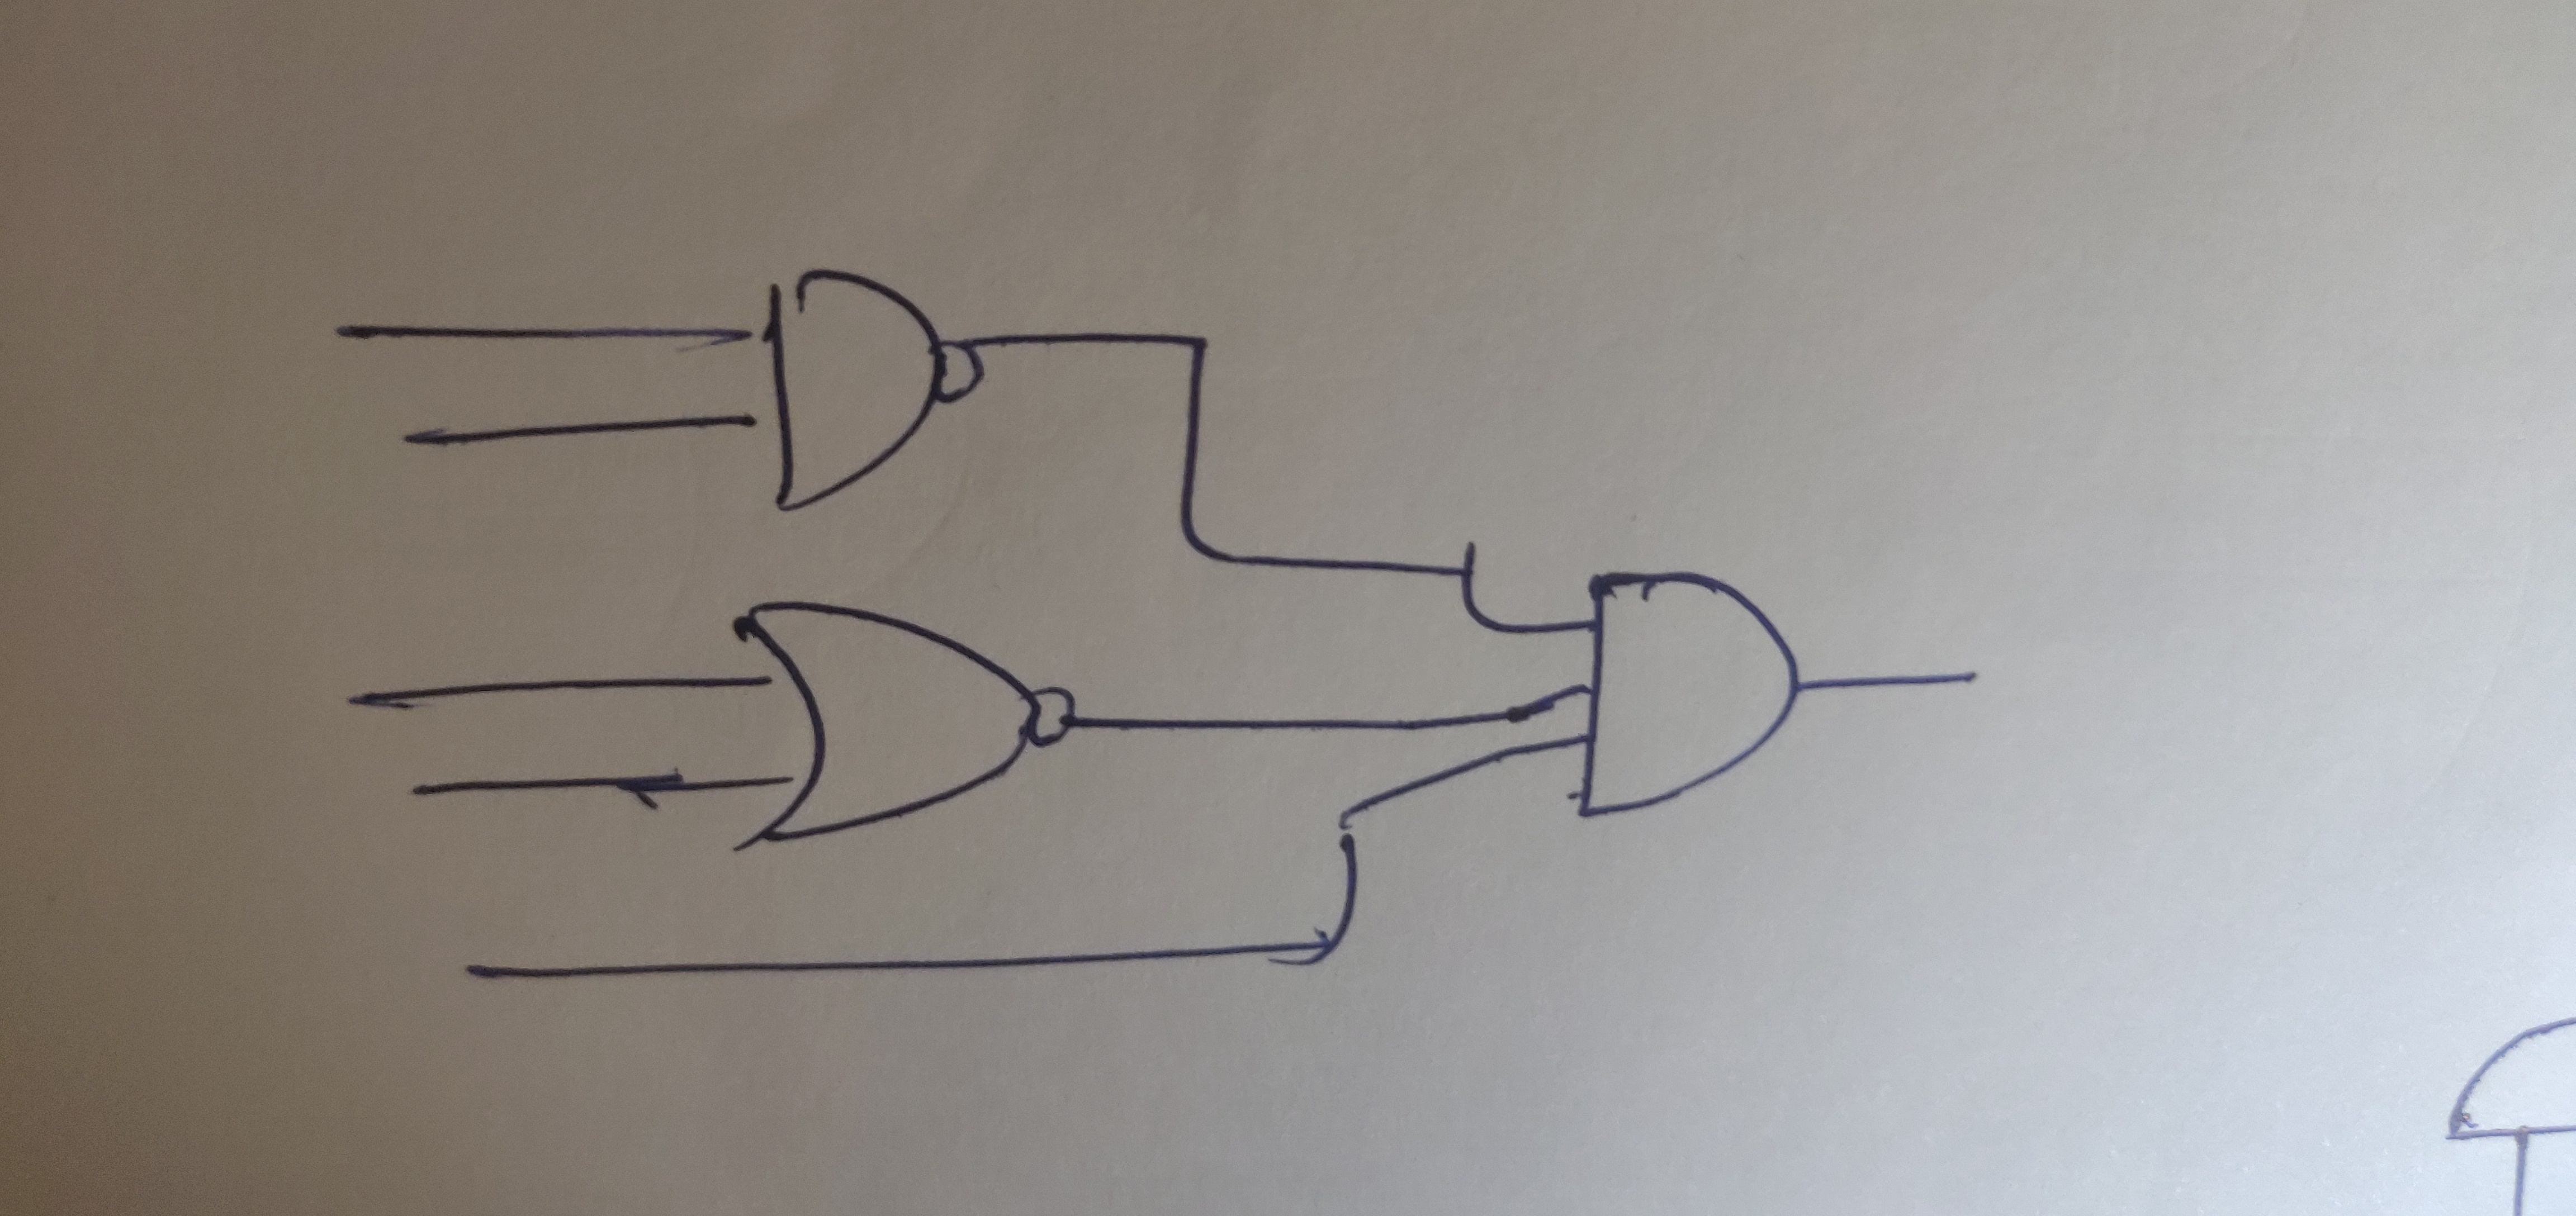and: (1531, 555, 1866, 868)
nand: (701, 250, 1074, 569)
nor: (701, 588, 1101, 864)
